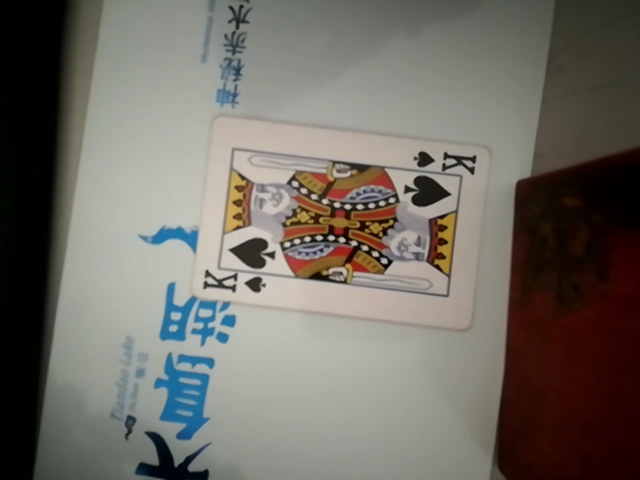ht k: (199, 114, 497, 337)
